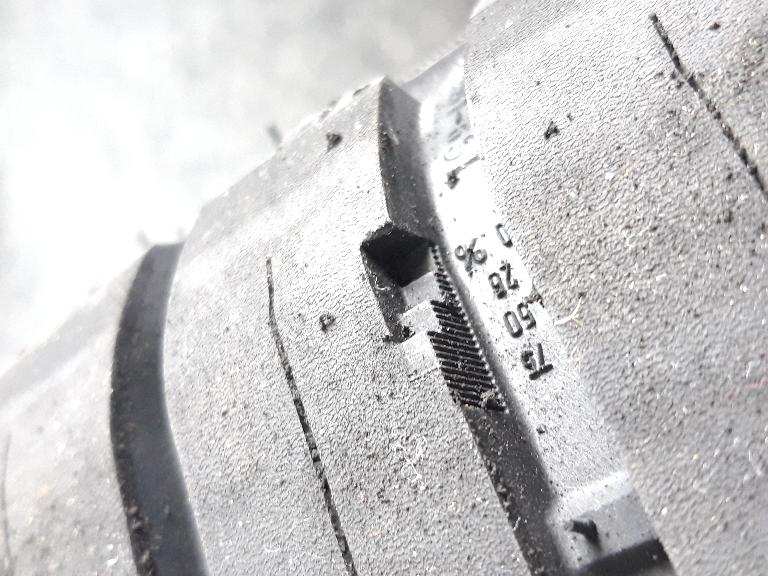temoin:75: (352, 211, 513, 392)
